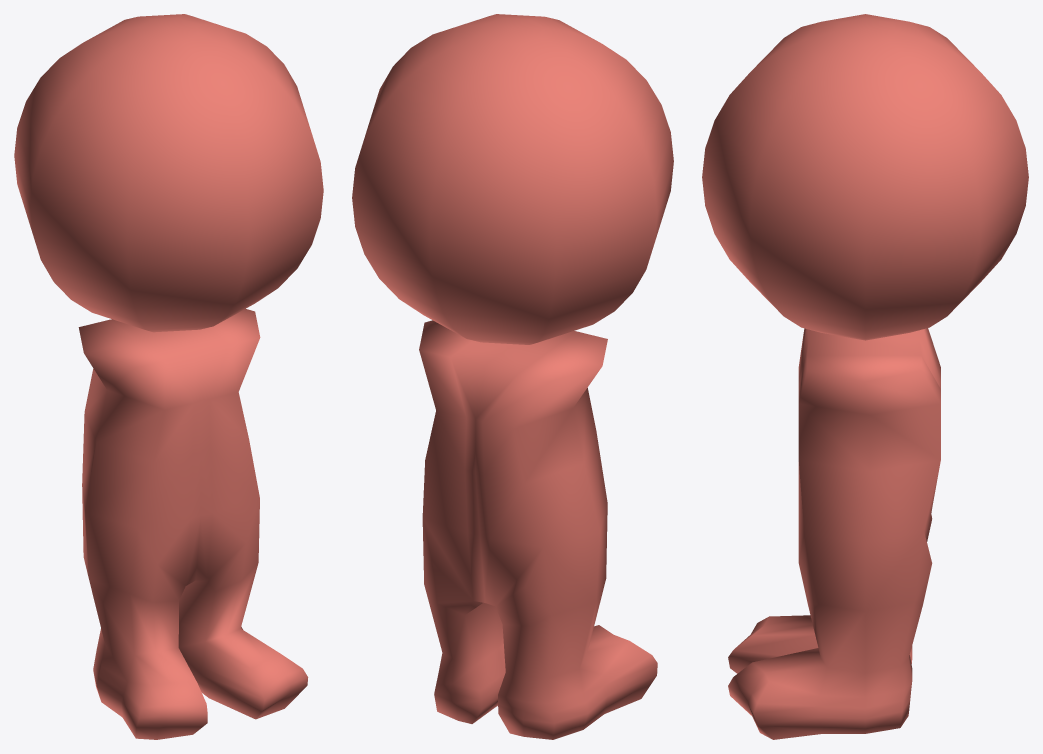
The model's file is Generic Character.fbx.
The picture shows the model from 3 angles, left to right: view 1: azimuth 30°, elevation 25°; view 2: azimuth 150°, elevation 25°; view 3: azimuth 270°, elevation 25°; orthographic projection. The views are drawn at different scales.
Parts seen in each view (by area): view 1: Sphere; view 2: Sphere; view 3: Sphere.
Part boxes in pixels (x1,y1,x2,y2): Sphere: [14, 14, 323, 739]; Sphere: [352, 14, 673, 739]; Sphere: [702, 14, 1028, 739].
Bounding box in the file's own units: 200 × 454 × 200.
